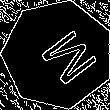M_SW: (23, 21, 93, 89)
